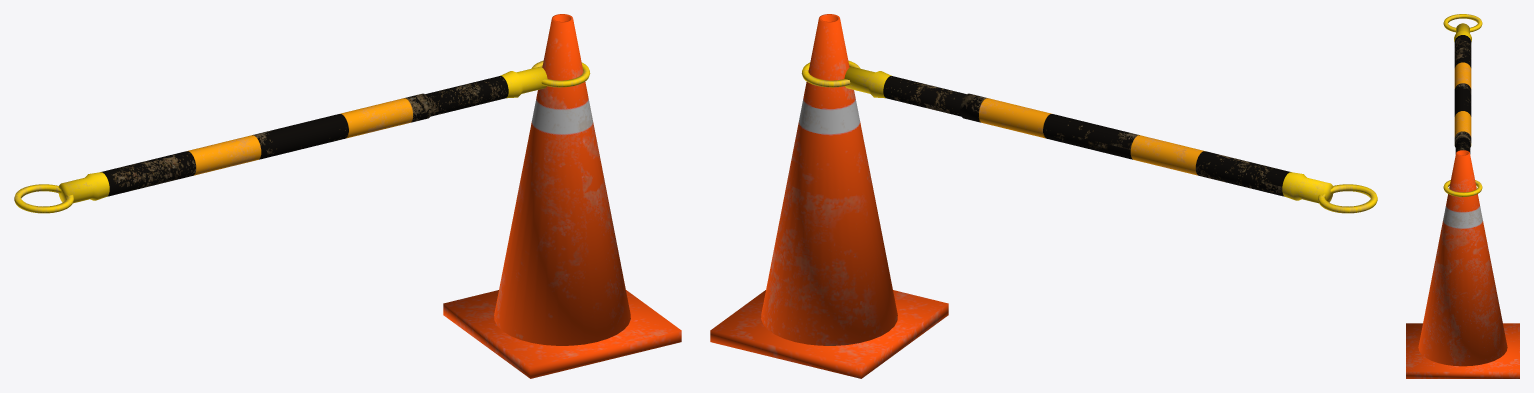
The model's file is safe facility_b1.fbx.
The picture shows the model from 3 angles, left to right: view 1: azimuth 30°, elevation 25°; view 2: azimuth 150°, elevation 25°; view 3: azimuth 270°, elevation 25°; orthographic projection. The views are drawn at different scales.
Visible parts, largest first — view 1: safe_b1; view 2: safe_b1; view 3: safe_b1.
Boxes of the visible parts, x1=… form: safe_b1: x1=14, y1=14, x2=681, y2=378; safe_b1: x1=710, y1=14, x2=1377, y2=378; safe_b1: x1=1406, y1=14, x2=1519, y2=378.
Size of the model in its own units: 143 by 68.56 by 35.
